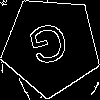G: (26, 21, 74, 75)
